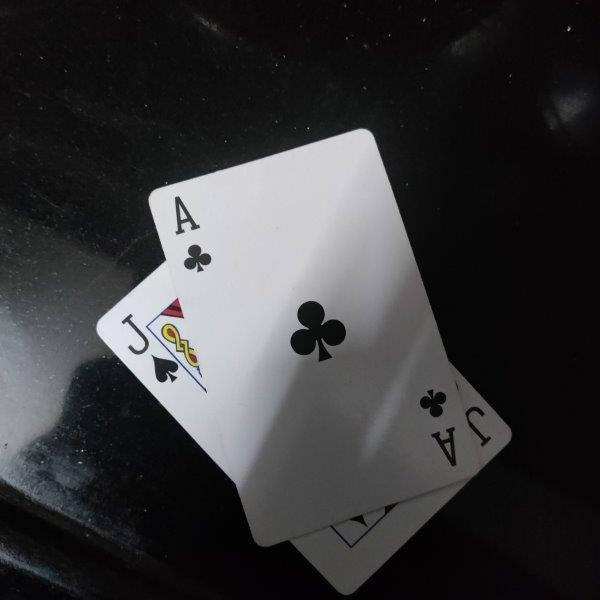Ace of Clubs: (148, 127, 477, 548)
Jack of Spades: (98, 259, 512, 596)
